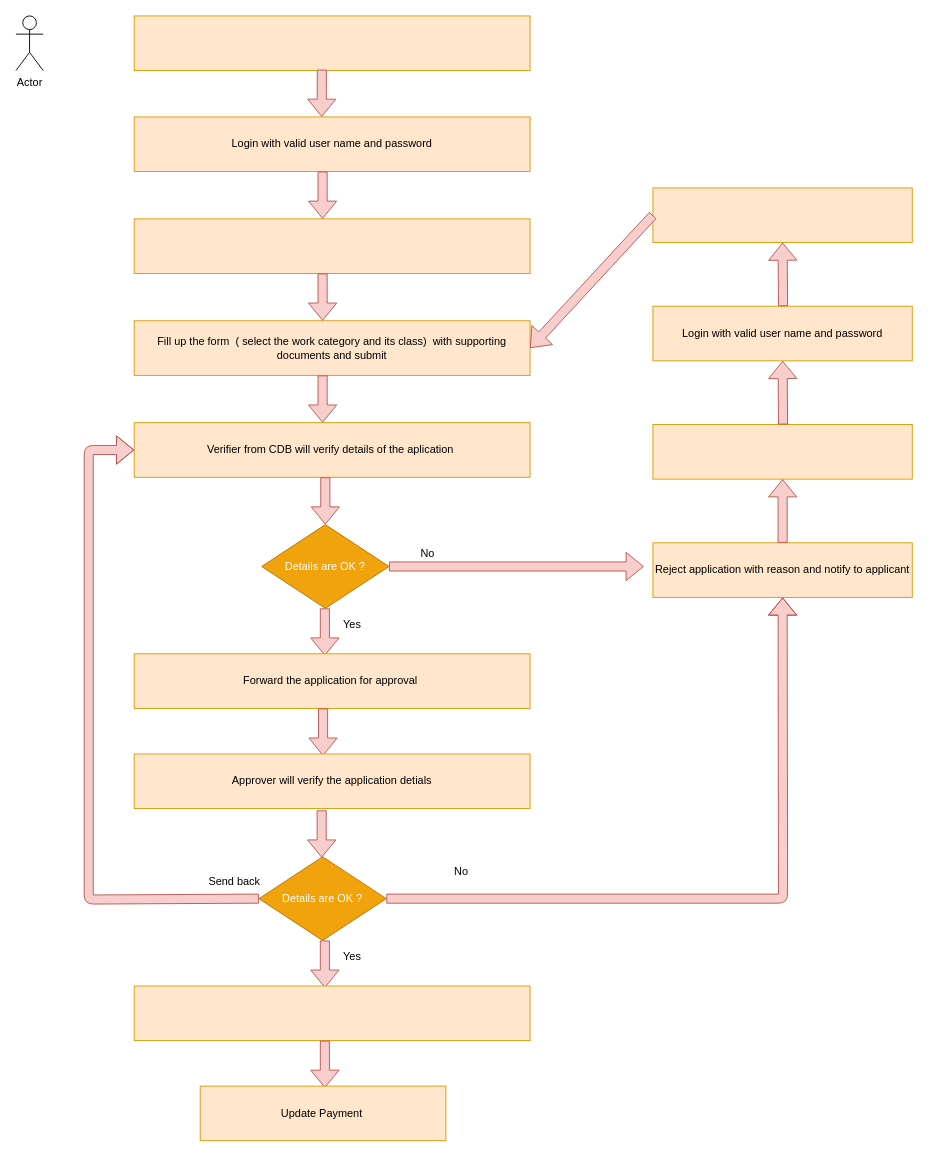
Image size: 928x1157. Some labels were removed from this diagram. Here are the shapes that lost their labels. From the top down, the centre of each, then its label:
At point (331, 43): "Applicant visits G2C poral for application Up/down gradation of contractor".
At point (782, 215): "Find the rejected application from dashboard".
At point (331, 245): "Click on Others from menu and select/ check up/down gradation".
At point (782, 451): "Applicant visit portal for re-submission".
At point (331, 1013): "Application will be forward to payment and applicant will be notified".
